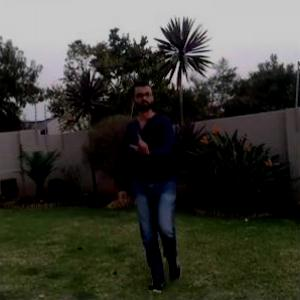land_hand: (129, 124, 159, 162)
